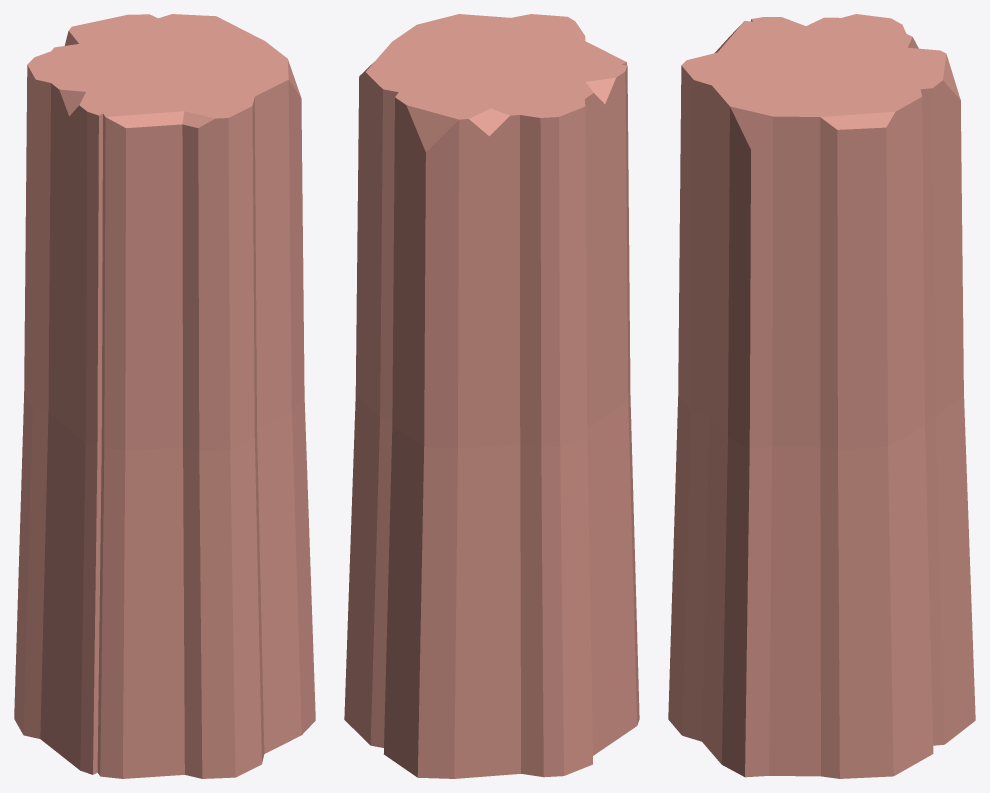
The model's file is SuperGrid_Hexagon_023_Vlad.fbx.
The picture shows the model from 3 angles, left to right: view 1: azimuth 30°, elevation 25°; view 2: azimuth 150°, elevation 25°; view 3: azimuth 270°, elevation 25°; orthographic projection.
Parts seen in each view (by area): view 1: SuperGrid_Hexagon.023; view 2: SuperGrid_Hexagon.023; view 3: SuperGrid_Hexagon.023.
Part boxes in pixels (box(x1,y1,x2,y2)): SuperGrid_Hexagon.023: box(14, 14, 315, 778); SuperGrid_Hexagon.023: box(344, 14, 639, 778); SuperGrid_Hexagon.023: box(668, 14, 975, 778).
Bounding box in the file's own units: 19006 × 50000 × 21302.
